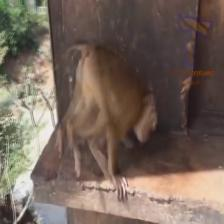monkey: (132, 79, 158, 147)
